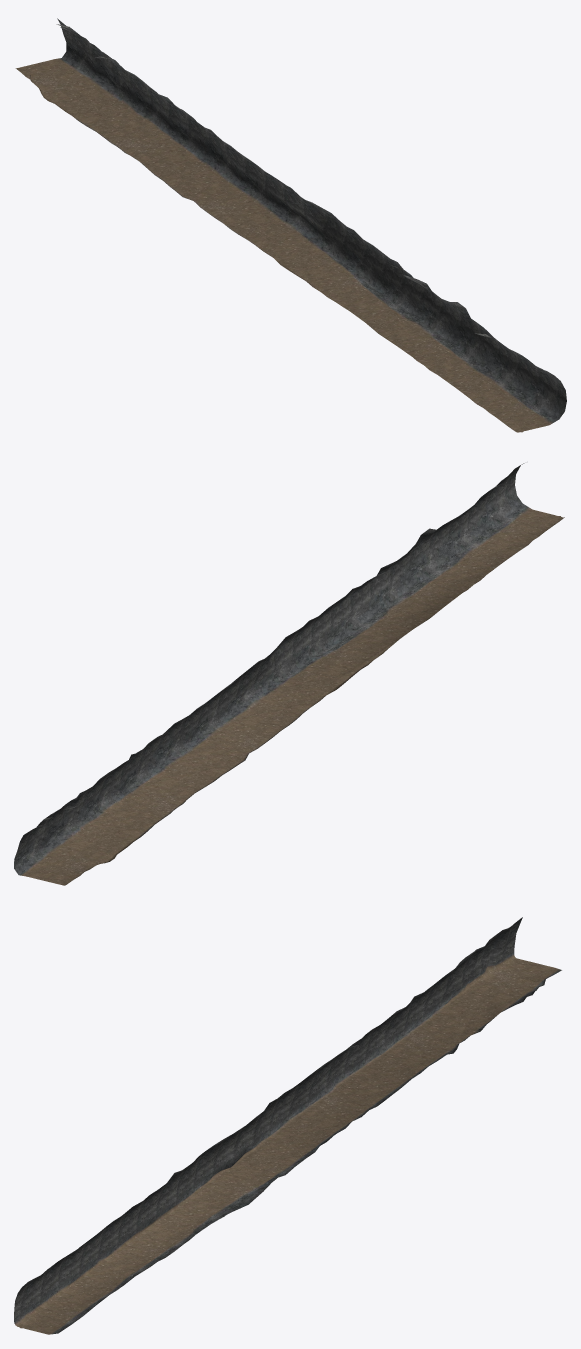
Rendered from TunnelB.glb.
3 views of the same model, one above another, from view 1: azimuth 30°, elevation 25°; view 2: azimuth 150°, elevation 25°; view 3: azimuth 330°, elevation 25° (orthographic).
Parts seen in each view (by area): view 1: TunnelB; view 2: TunnelB; view 3: TunnelB.
Boxes of the visible parts, x1=… form: TunnelB: x1=15, y1=18, x2=566, y2=432; TunnelB: x1=14, y1=463, x2=564, y2=885; TunnelB: x1=14, y1=917, x2=561, y2=1334.
Bounding box in the file's own units: 3.47 × 2.84 × 48.23.
1 material, 1 textured.
